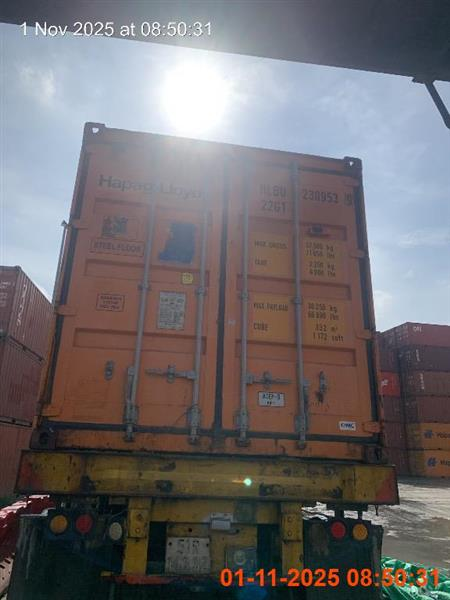dent: (3, 121, 401, 599)
